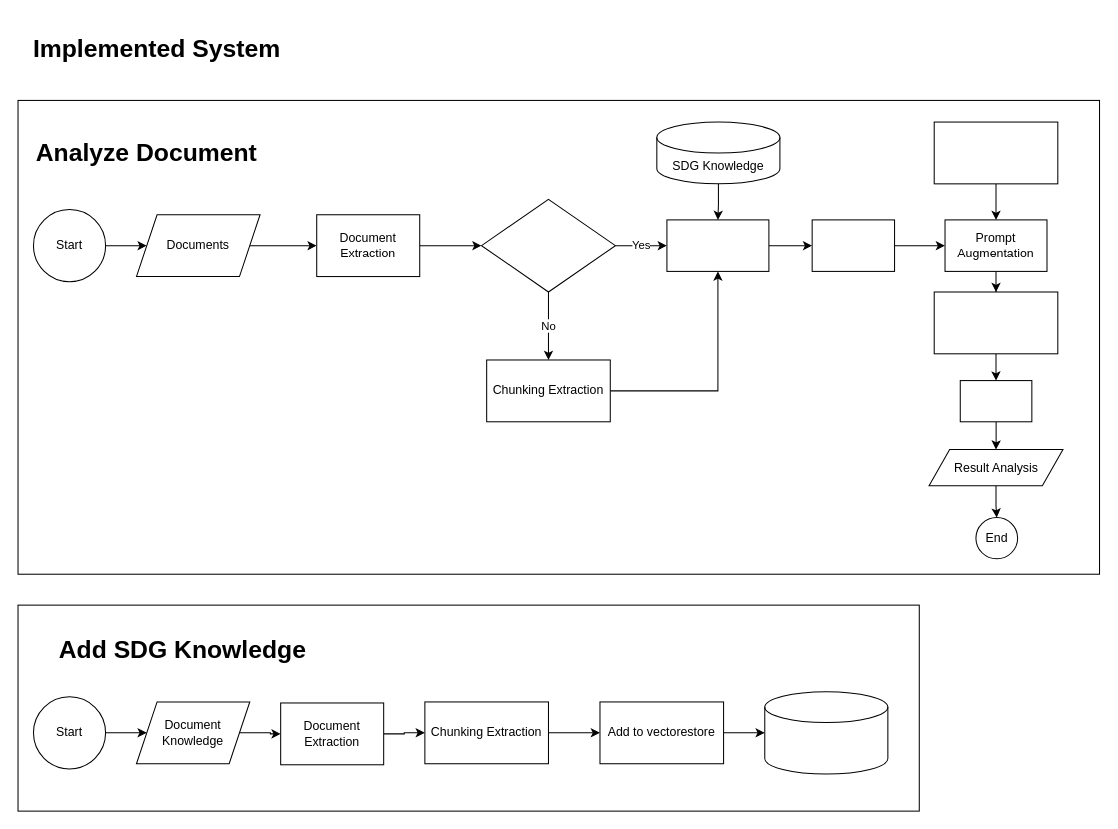
Image size: 1118x829. Some labels were removed from this diagram. Each missing label, with the centre of its shape:
Cleaning Retrieval: [853,245]
Json Parser: [995,401]
LLM Analyzing: [995,322]
Metadata Exist: [547,245]
Retrieval: [717,245]
Supabase SDG Knowledge: [826,732]
System template prompt: [995,152]
